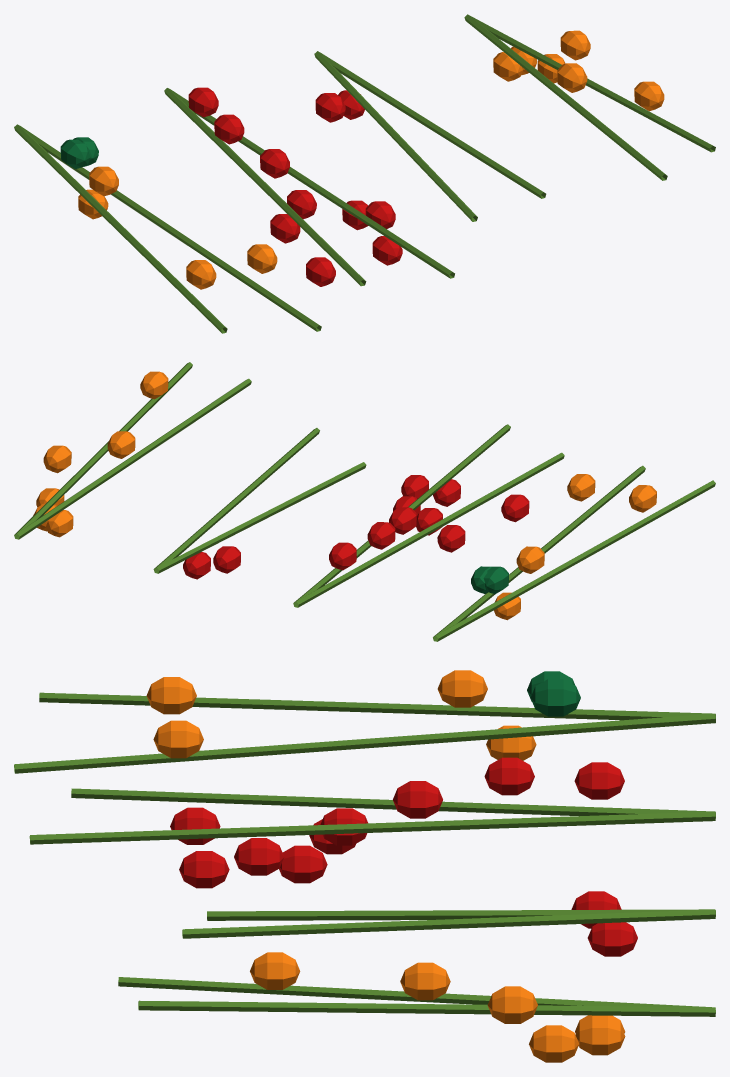
File: r22c2_stems.obj
3 views of the same model, one above another, from view 1: azimuth 30°, elevation 25°; view 2: azimuth 150°, elevation 25°; view 3: azimuth 270°, elevation 25° (orthographic). The views are drawn at different scales.
Parts seen in each view (by area): view 1: r22c2_stems; view 2: r22c2_stems; view 3: r22c2_stems.
Boxes of the visible parts, x1=… form: r22c2_stems: x1=14, y1=14, x2=715, y2=333; r22c2_stems: x1=14, y1=362, x2=715, y2=641; r22c2_stems: x1=14, y1=670, x2=715, y2=1062.
Size of the model in its own units: 1.66 by 0.2684 by 1.39.
